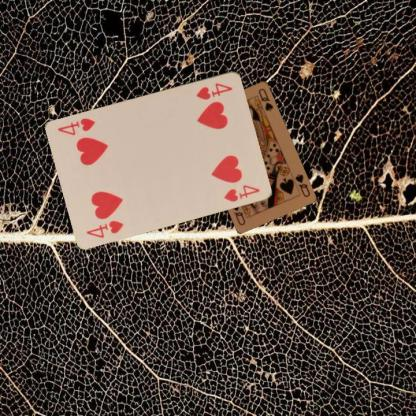4h: (84, 217, 125, 239), (194, 80, 234, 101)
Qs: (292, 171, 311, 198)
